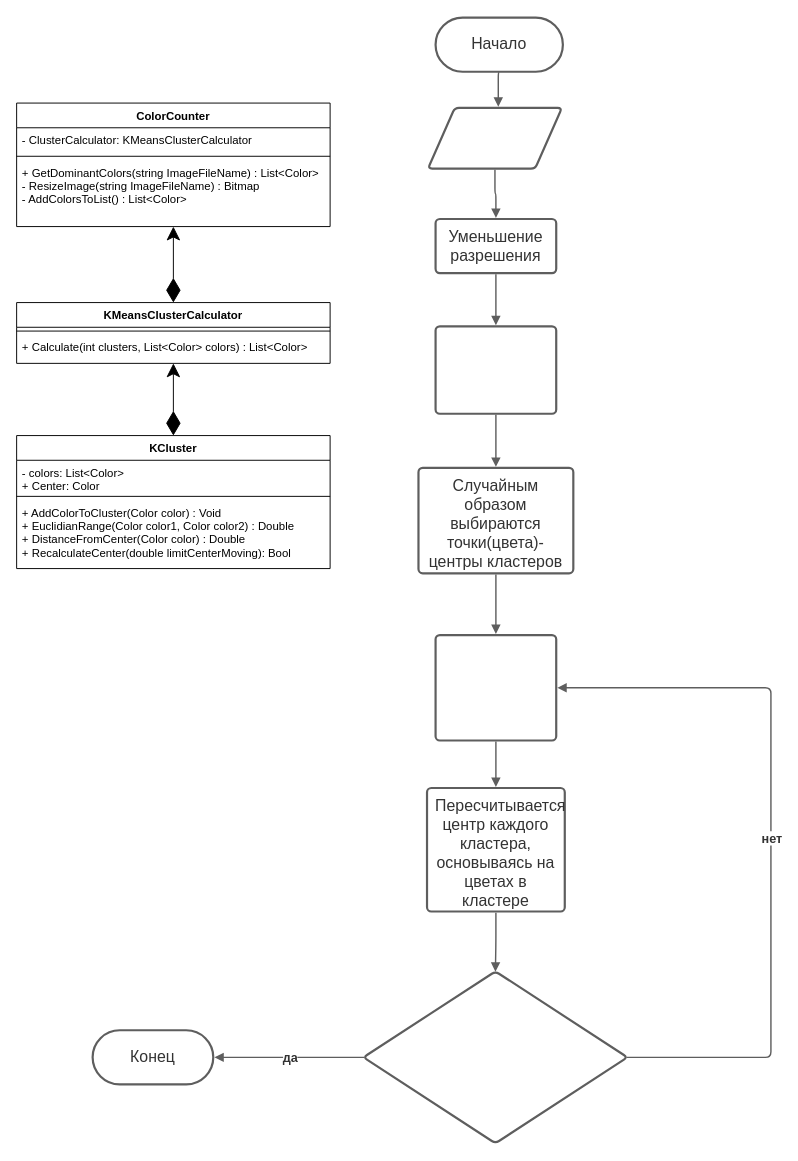
Some shapes in this 798 by 1161 pixel diagram are drawn without their labels. The centre of each missing label's shape, as x and y in pixels:
Ввод изображения, (к-цветов?): point (494, 137)
Если центры мало меняются или кол-во итераций превысило некоторое значение: point (495, 1057)
Определяется ближайший центр кластера для каждого цвета: point (495, 687)
Попиксельный выбор цветов из изображения: point (495, 369)
